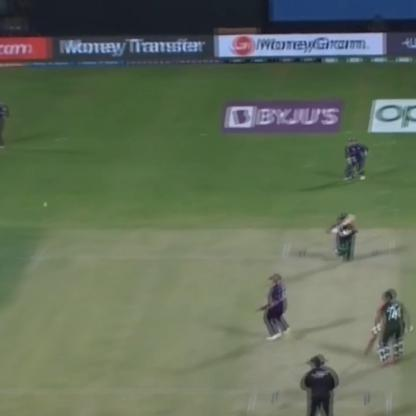ball: (38, 197, 51, 213)
pitch: (243, 226, 400, 416)
